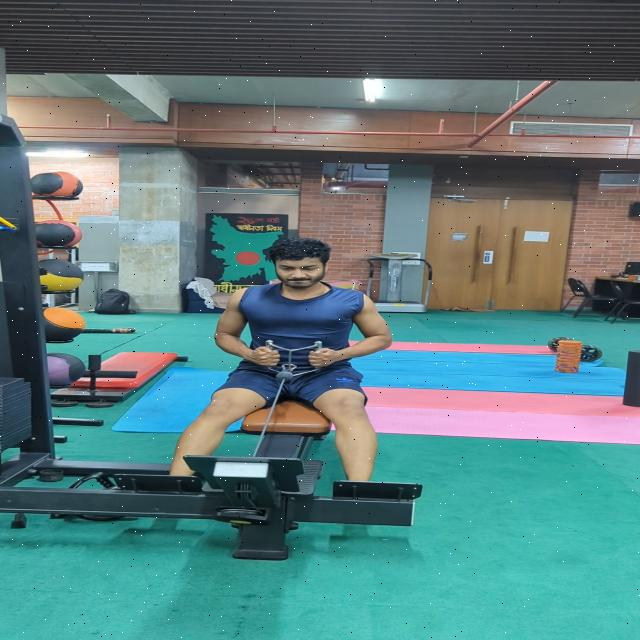Normal_RowingMachineExercise: (168, 237, 394, 486)
